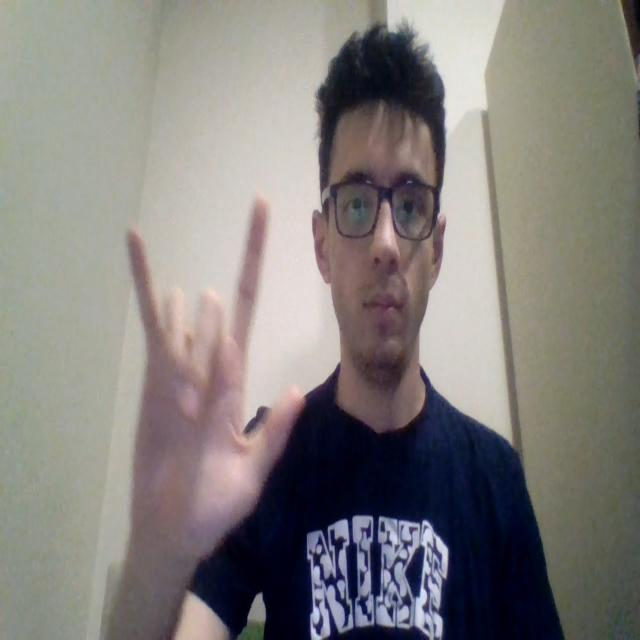iloveyou: (99, 195, 306, 637)
